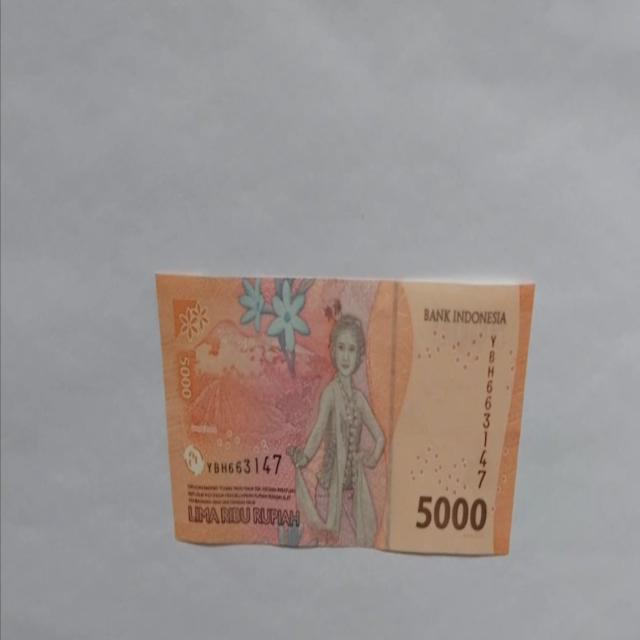lima ribu rupiah: (154, 271, 536, 556), (284, 312, 386, 548)
